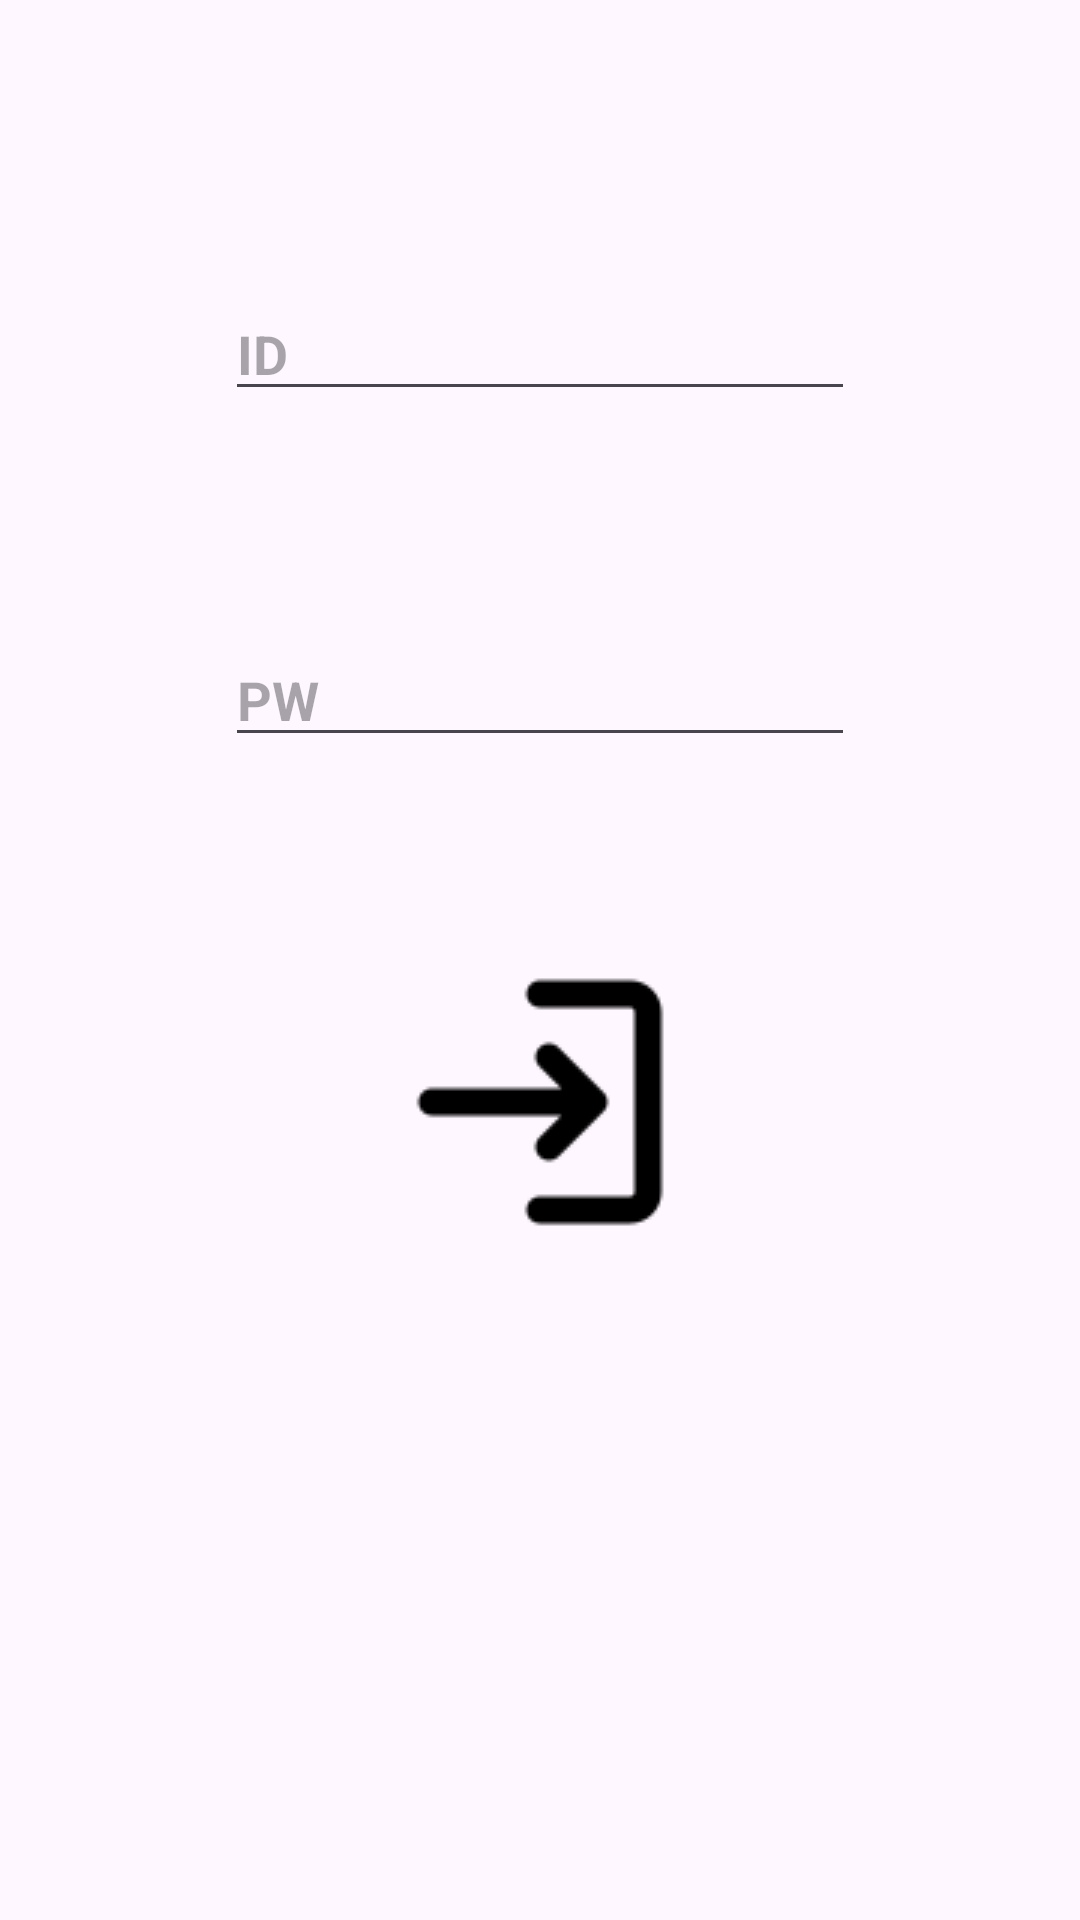

Named icons in this screenshot (1080px x 1920px) and their bounding boxes, (x1, y1, x2, y2):
sign: (416, 978, 664, 1226)
